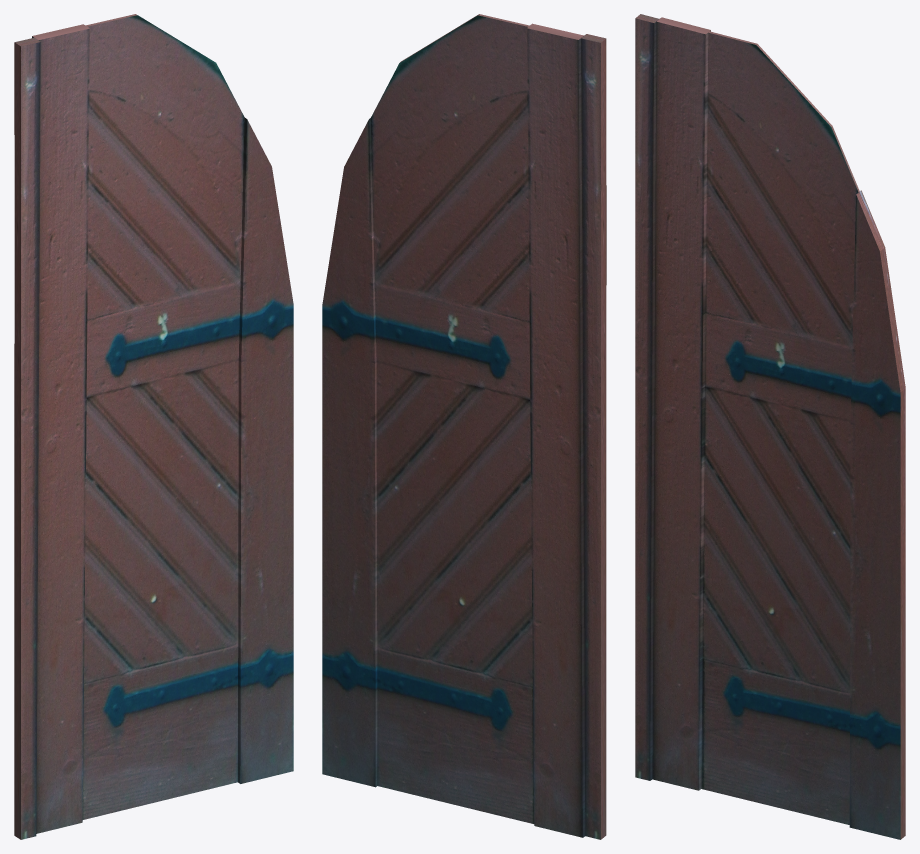
The model's file is DoorRight.gltf.
3 views of the same model, side by side, from view 1: azimuth 30°, elevation 25°; view 2: azimuth 150°, elevation 25°; view 3: azimuth 330°, elevation 25° (orthographic). The views are drawn at different scales.
Visible parts, largest first — view 1: gate-big-part-2; view 2: gate-big-part-2; view 3: gate-big-part-2.
Boxes of the visible parts, <box> form: gate-big-part-2: <box>14,14,293,839</box>; gate-big-part-2: <box>322,14,606,839</box>; gate-big-part-2: <box>635,14,905,839</box>.
Size of the model in its own units: 1.24 by 3.41 by 0.0661.
Materials: 1 (1 with a texture image).
